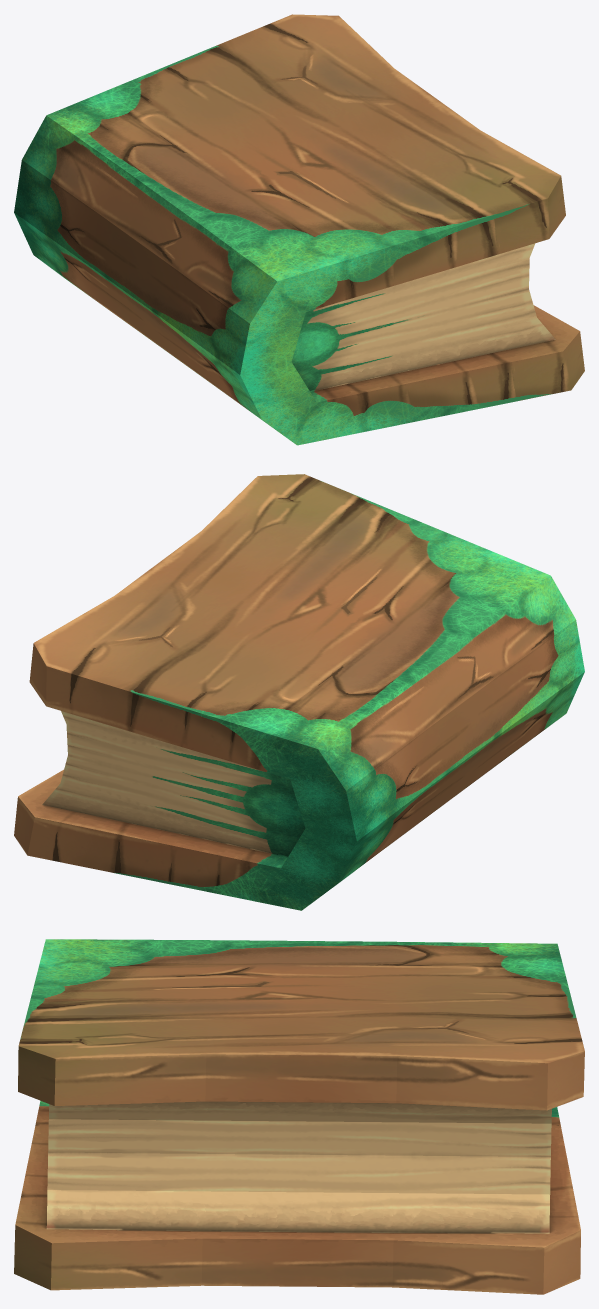
File: WoodenBook.fbx
The picture shows the model from 3 angles, top to bottom: view 1: azimuth 30°, elevation 25°; view 2: azimuth 150°, elevation 25°; view 3: azimuth 270°, elevation 25°; orthographic projection. The views are drawn at different scales.
Parts seen in each view (by area): view 1: WoodenBook; view 2: WoodenBook; view 3: WoodenBook.
Part boxes in pixels (left/top/right/bottom): WoodenBook: left=14, top=14, right=584, bottom=445; WoodenBook: left=14, top=474, right=584, bottom=910; WoodenBook: left=14, top=939, right=584, bottom=1294.
Bounding box in the file's own units: 44.2 × 24.79 × 57.18.
